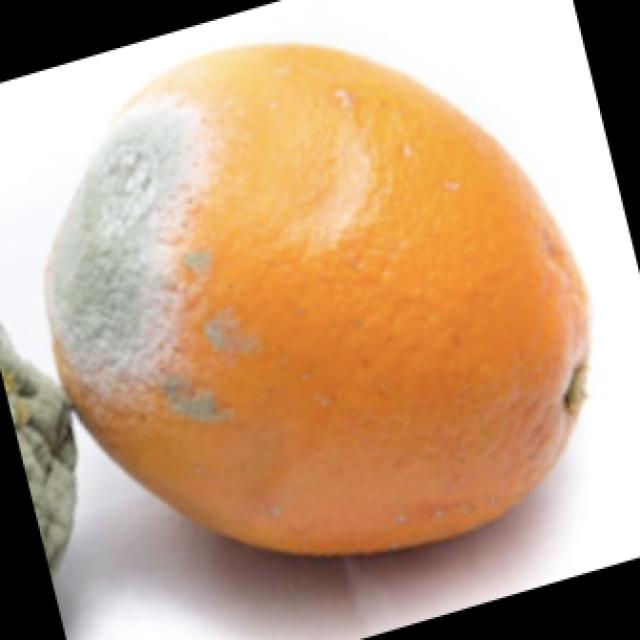sangat_busuk: (1, 316, 74, 579)
sedikit_busuk: (52, 42, 589, 550)
